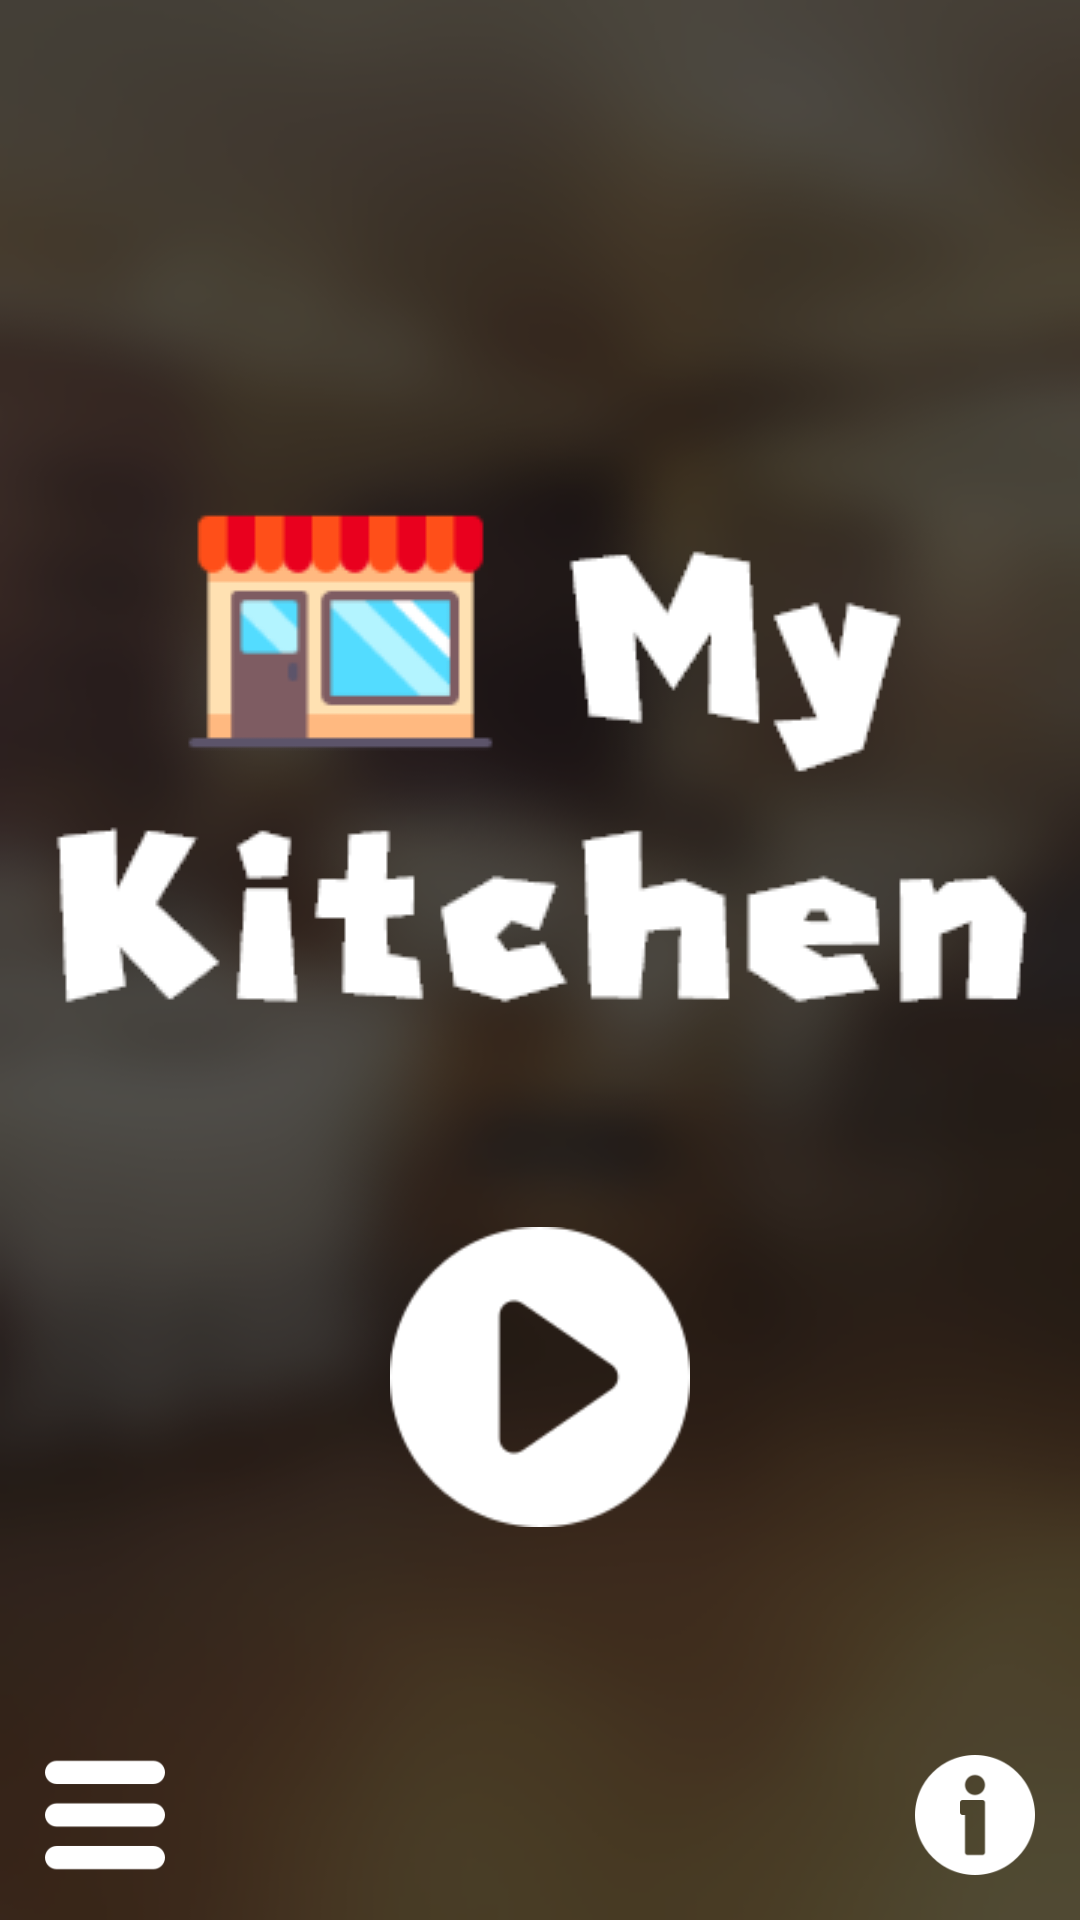

Icon click points for this 1080px x 1920px phone screenshot, format point (x, y):
info: point (975, 1815)
menu: point (105, 1815)
play: point (540, 1377)
